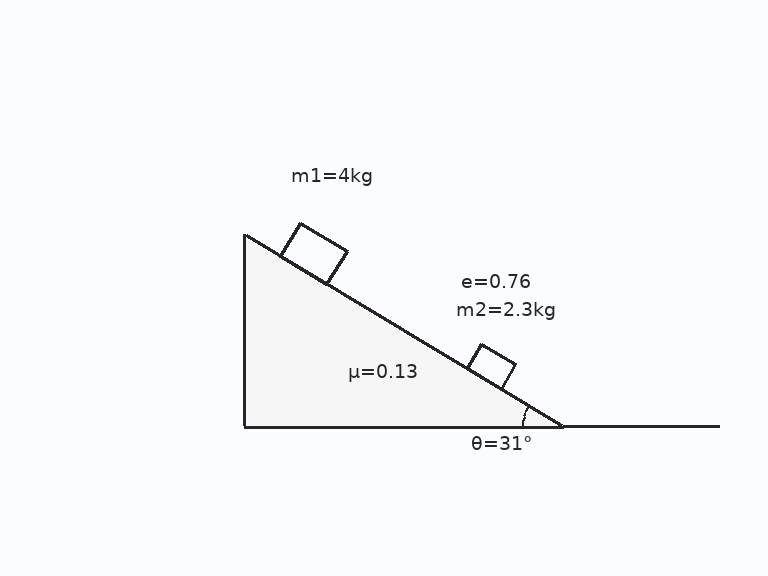block: (279, 221, 348, 286), (465, 341, 517, 390)
ramp: (242, 232, 565, 428)
